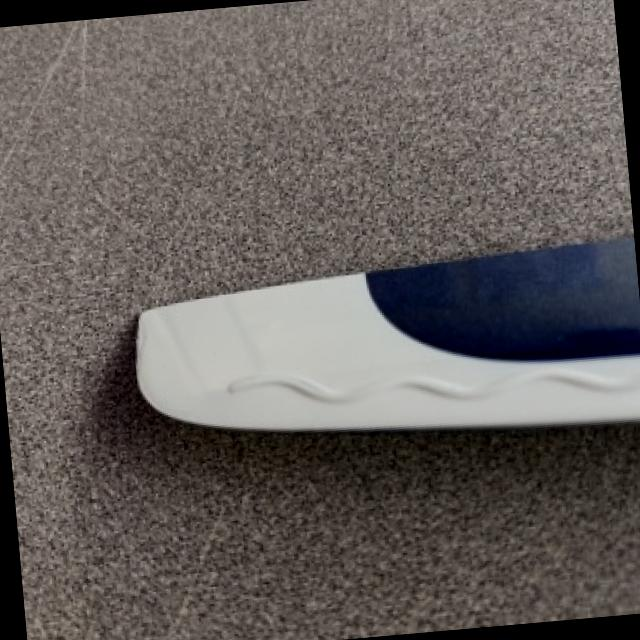healthy: (138, 235, 640, 428)
